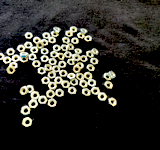nut: (22, 118, 33, 129), (21, 106, 31, 117), (28, 100, 39, 110), (47, 99, 58, 109), (67, 87, 78, 96), (19, 87, 29, 96), (98, 93, 107, 103), (82, 88, 91, 98), (61, 81, 71, 90), (104, 81, 113, 91), (7, 66, 16, 75), (6, 48, 15, 57), (39, 96, 48, 105), (31, 92, 40, 101), (42, 77, 51, 86), (47, 90, 56, 99), (48, 71, 57, 80), (67, 72, 76, 81), (80, 80, 89, 89), (92, 87, 101, 96), (57, 89, 65, 99), (109, 98, 117, 108), (12, 54, 20, 63), (38, 68, 47, 76), (49, 83, 58, 91), (41, 55, 50, 63), (85, 72, 93, 81), (77, 73, 85, 82), (87, 64, 95, 73), (73, 66, 82, 74), (9, 62, 19, 69), (32, 61, 42, 68), (3, 57, 11, 65), (27, 86, 35, 94), (29, 54, 37, 62), (55, 77, 63, 85), (49, 58, 57, 66), (41, 48, 49, 56), (53, 65, 61, 73), (60, 70, 68, 78), (59, 61, 67, 69), (89, 80, 97, 88), (85, 35, 93, 43), (104, 74, 112, 82), (73, 54, 81, 62), (91, 58, 99, 66), (43, 32, 51, 40), (37, 41, 45, 49), (49, 37, 57, 45), (50, 51, 58, 59), (87, 51, 95, 59), (17, 45, 26, 52), (20, 57, 29, 64), (75, 62, 84, 69), (61, 44, 68, 53), (25, 32, 33, 39), (25, 42, 33, 49), (31, 47, 39, 54), (46, 64, 53, 72), (67, 59, 75, 66), (54, 45, 61, 53), (34, 37, 42, 44), (78, 32, 85, 40), (65, 52, 73, 59), (72, 38, 80, 45), (92, 48, 99, 56), (110, 71, 116, 80), (66, 31, 73, 38), (63, 37, 70, 44), (42, 40, 49, 47), (58, 54, 65, 61), (68, 44, 75, 51), (70, 26, 77, 33), (71, 80, 79, 86), (82, 55, 88, 63), (20, 52, 29, 57), (81, 28, 88, 34), (54, 27, 61, 33), (76, 49, 83, 55), (51, 32, 59, 37), (0, 54, 5, 61)
